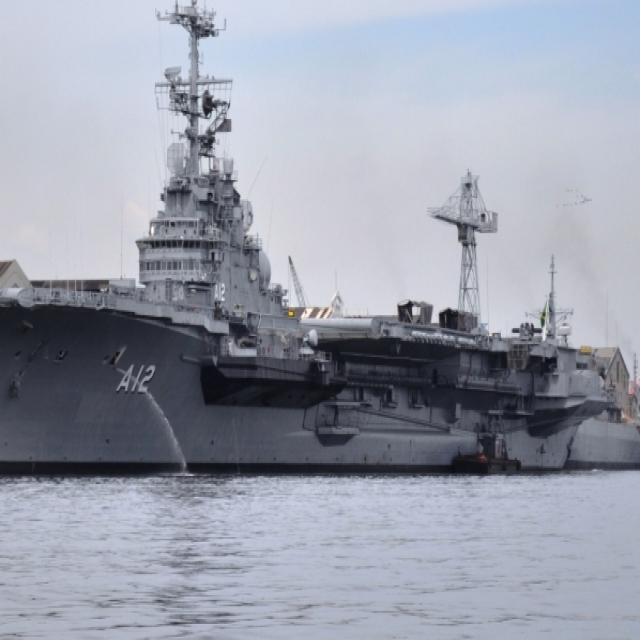Portanaves: (1, 1, 614, 482)
